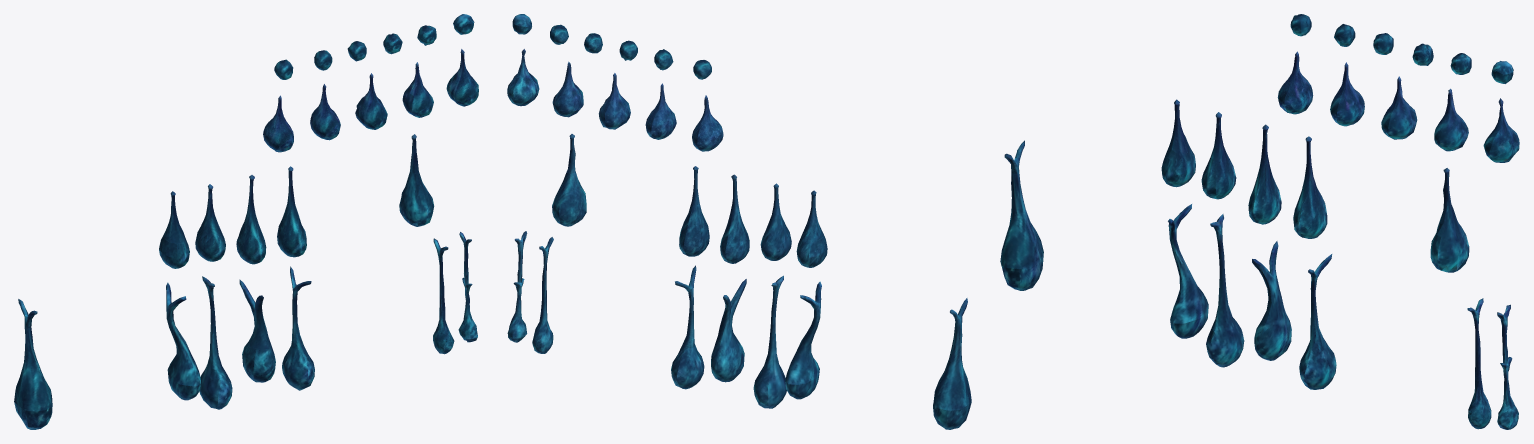
Rendered from stone_water_drops.glb.
3 renders of one model, left to right at view 1: azimuth 30°, elevation 25°; view 2: azimuth 150°, elevation 25°; view 3: azimuth 330°, elevation 25°, orthographic. The views are drawn at different scales.
Visible parts, largest first — view 1: kropla_b_duza_07, kropla_b_duza_06, kropla_b_duza_04, kropla_b_duza_05, kropla_b_duza_03, kropla_duza_01, kropla_duza_02, kropla_duza_03, kropla_duza_05, kropla_duza_04, kropla_b_duza_02, kropla_srednia_01 (+5 smaller); view 2: kropla_b_duza_07, kropla_b_duza_06, kropla_b_duza_04, kropla_b_duza_05, kropla_b_duza_03, kropla_duza_01, kropla_duza_02, kropla_duza_03, kropla_duza_05, kropla_duza_04, kropla_b_duza_02, kropla_srednia_01 (+5 smaller); view 3: kropla_b_duza_07, kropla_b_duza_04, kropla_b_duza_06, kropla_b_duza_05, kropla_b_duza_03, kropla_duza_01, kropla_duza_02, kropla_duza_03, kropla_duza_05, kropla_duza_04, kropla_b_duza_02, kropla_srednia_03 (+5 smaller).
Boxes of the visible parts, bbox=[...] form: kropla_b_duza_07: bbox=[14, 299, 52, 429]; kropla_b_duza_06: bbox=[166, 282, 200, 400]; kropla_b_duza_04: bbox=[239, 279, 275, 382]; kropla_b_duza_05: bbox=[199, 276, 232, 409]; kropla_b_duza_03: bbox=[282, 266, 314, 390]; kropla_duza_01: bbox=[399, 134, 434, 226]; kropla_duza_02: bbox=[277, 166, 306, 257]; kropla_duza_03: bbox=[236, 175, 266, 264]; kropla_duza_05: bbox=[159, 191, 189, 268]; kropla_duza_04: bbox=[195, 184, 225, 261]; kropla_b_duza_02: bbox=[433, 238, 454, 354]; kropla_srednia_01: bbox=[446, 49, 478, 106]; kropla_b_duza_07: bbox=[933, 298, 971, 429]; kropla_b_duza_06: bbox=[785, 281, 821, 399]; kropla_b_duza_04: bbox=[711, 279, 746, 382]; kropla_b_duza_05: bbox=[753, 275, 786, 408]; kropla_b_duza_03: bbox=[671, 265, 704, 389]; kropla_duza_01: bbox=[552, 134, 586, 226]; kropla_duza_02: bbox=[679, 166, 709, 256]; kropla_duza_03: bbox=[720, 174, 749, 263]; kropla_duza_05: bbox=[796, 190, 827, 267]; kropla_duza_04: bbox=[760, 183, 791, 260]; kropla_b_duza_02: bbox=[532, 237, 553, 353]; kropla_srednia_01: bbox=[507, 49, 539, 106]; kropla_b_duza_07: bbox=[1000, 140, 1043, 290]; kropla_b_duza_04: bbox=[1252, 241, 1291, 360]; kropla_b_duza_06: bbox=[1168, 204, 1208, 338]; kropla_b_duza_05: bbox=[1206, 214, 1244, 367]; kropla_b_duza_03: bbox=[1299, 254, 1336, 389]; kropla_duza_01: bbox=[1430, 168, 1469, 272]; kropla_duza_02: bbox=[1293, 136, 1327, 238]; kropla_duza_03: bbox=[1248, 124, 1281, 224]; kropla_duza_05: bbox=[1161, 99, 1195, 187]; kropla_duza_04: bbox=[1201, 112, 1236, 199]; kropla_b_duza_02: bbox=[1467, 298, 1491, 429]; kropla_srednia_03: bbox=[1381, 76, 1417, 139].
Size of the model in its own units: 0.8652 by 0.6035 by 0.0852.
1 material, 1 textured.
